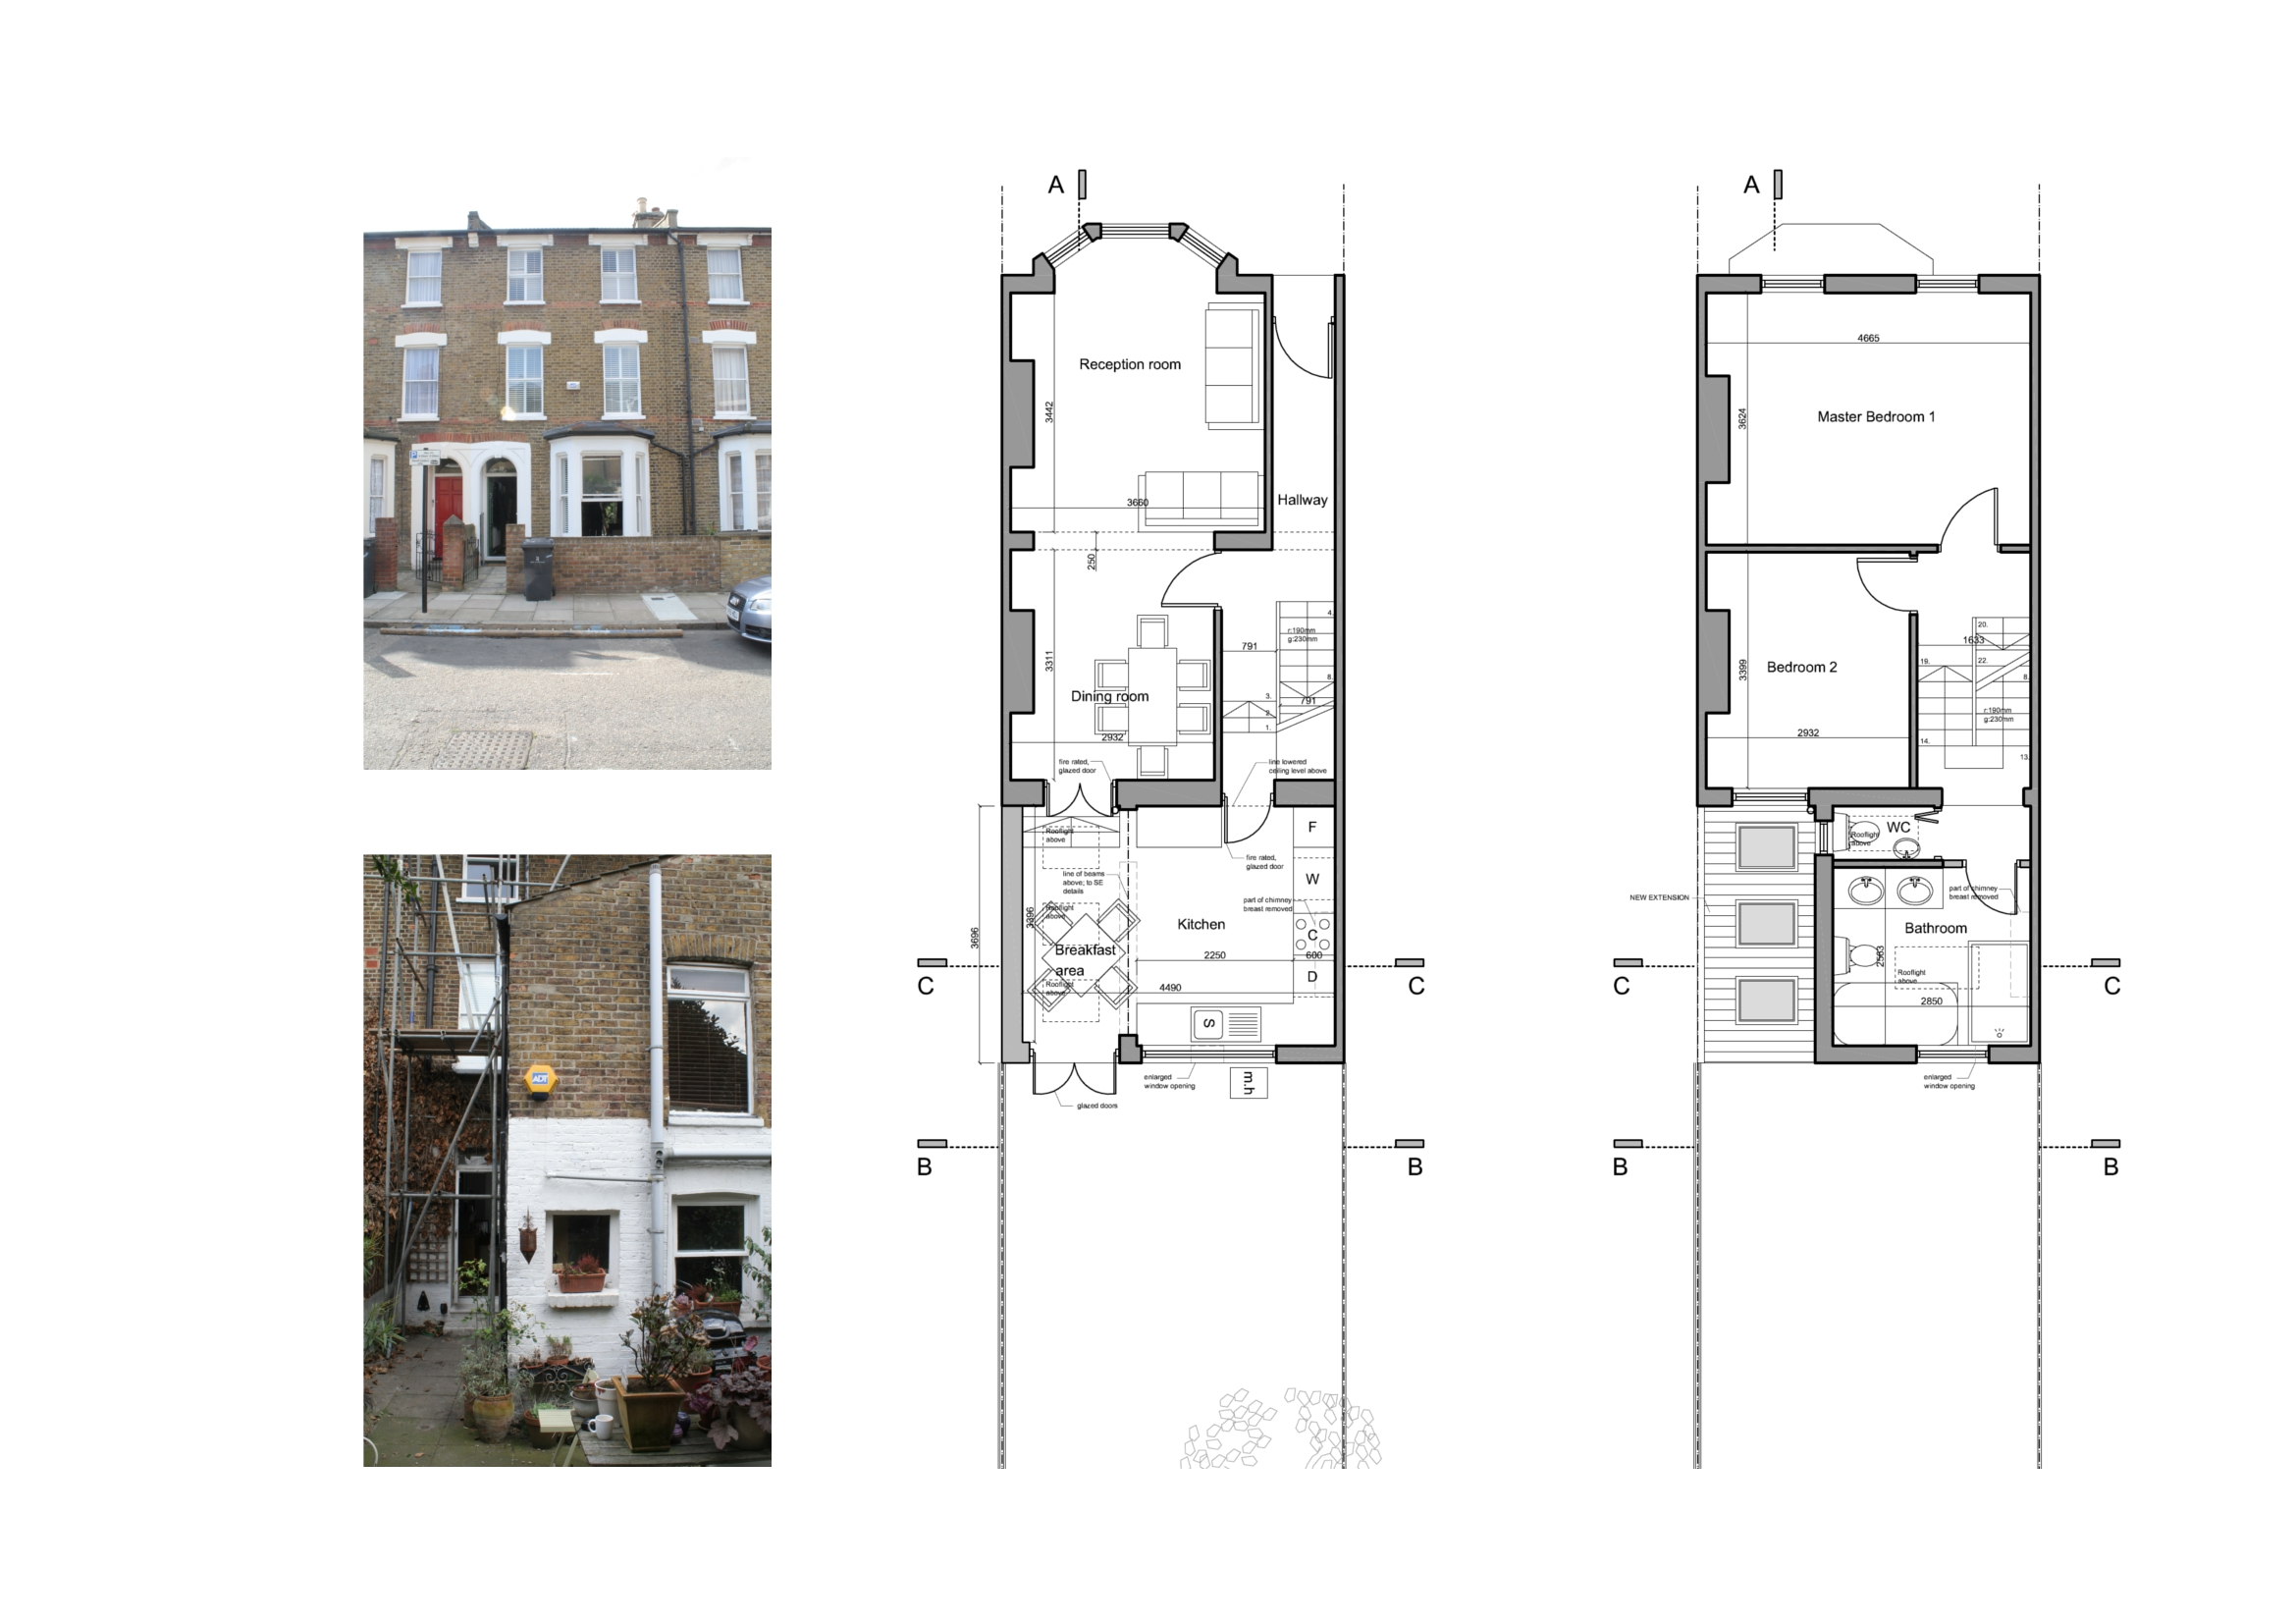door: (1936, 485, 2003, 553), (1854, 555, 1917, 613), (1157, 553, 1220, 610), (1273, 327, 1336, 381)
